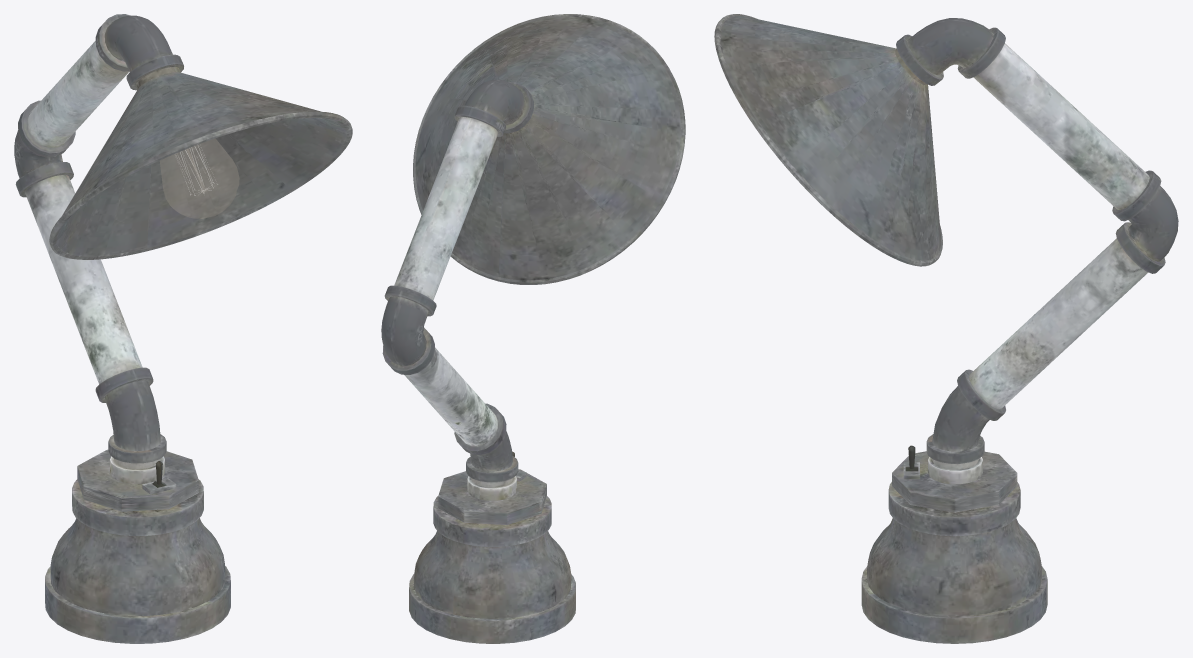
The model's file is industrial_pipe_lamp.glb.
3 renders of one model, left to right at view 1: azimuth 30°, elevation 25°; view 2: azimuth 150°, elevation 25°; view 3: azimuth 270°, elevation 25°, orthographic. The views are drawn at different scales.
Parts seen in each view (by area): view 1: industrial_pipe_lamp, industrial_pipe_lamp_bulb; view 2: industrial_pipe_lamp; view 3: industrial_pipe_lamp.
Boxes of the visible parts, bbox=[...] form: industrial_pipe_lamp: bbox=[14, 14, 352, 643]; industrial_pipe_lamp_bulb: bbox=[160, 138, 239, 218]; industrial_pipe_lamp: bbox=[381, 14, 685, 643]; industrial_pipe_lamp: bbox=[714, 14, 1178, 643].
Bounding box in the file's own units: 0.183 × 0.3641 × 0.2621.
Materials: 2 (2 with a texture image).
